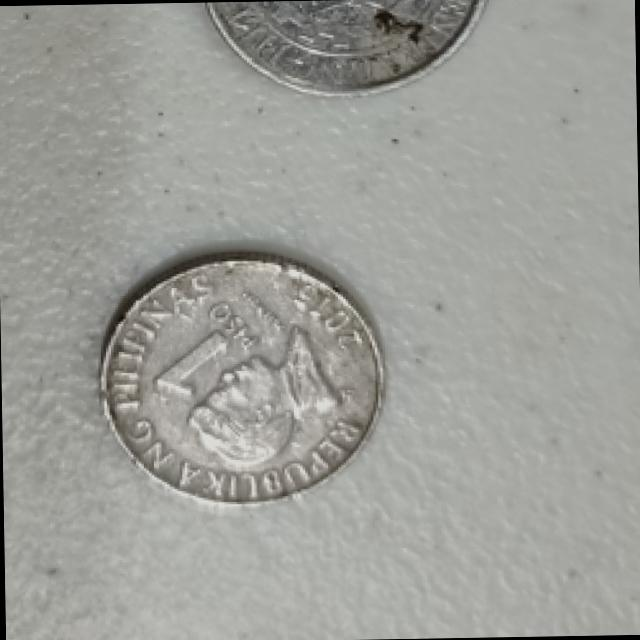1_peso: (101, 254, 380, 501)
